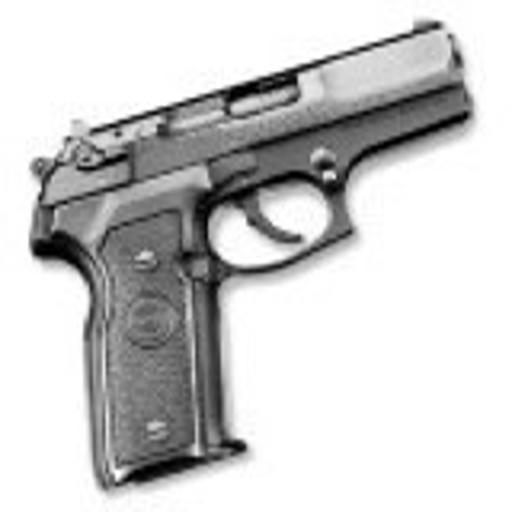Handgun: (24, 7, 475, 498)
